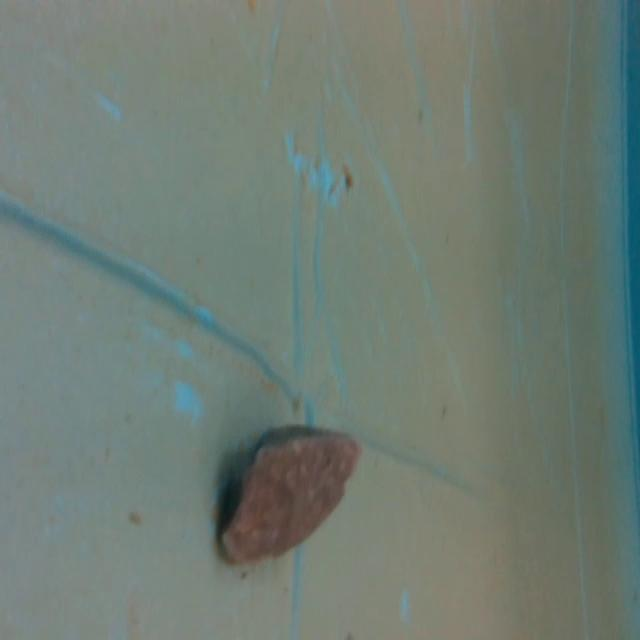rock: (213, 410, 364, 572)
